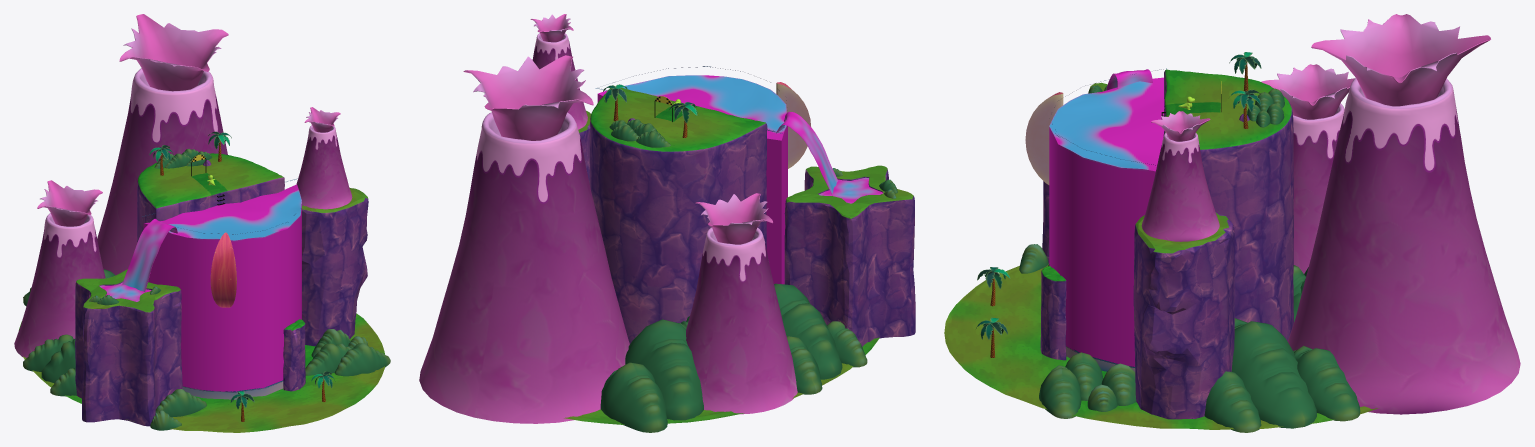
The model's file is Escenario 1.fbx.
3 renders of one model, left to right at view 1: azimuth 30°, elevation 25°; view 2: azimuth 150°, elevation 25°; view 3: azimuth 270°, elevation 25°, orthographic. The views are drawn at different scales.
Visible parts, largest first — view 1: Yogurt Acuario, Volcan, Montaña Estrella, Monataña, Arbusto, Pasto, Lava de yogurt, Montaña P, Yogurt Exterior, Manzana, Roca Exterior, Palmeras (+1 smaller); view 2: Volcan, Montaña P, Montaña Estrella, Arbusto, Lava de yogurt, Yogurt Acuario, Yogurt Exterior, Manzana, Pasto, Palmeras; view 3: Volcan, Yogurt Acuario, Montaña P, Arbusto, Monataña, Lava de yogurt, Pasto, Roca Exterior, Palmeras, Manzana, Montaña Estrella, Yogurt Exterior.
Part boxes in pixels (x1=…): Yogurt Acuario: x1=143, y1=184, x2=301, y2=391; Volcan: x1=14, y1=68, x2=352, y2=357; Montaña Estrella: x1=75, y1=269, x2=182, y2=426; Monataña: x1=302, y1=187, x2=368, y2=346; Arbusto: x1=23, y1=148, x2=390, y2=430; Pasto: x1=18, y1=313, x2=384, y2=432; Lava de yogurt: x1=37, y1=14, x2=340, y2=226; Montaña P: x1=137, y1=153, x2=284, y2=242; Yogurt Exterior: x1=100, y1=218, x2=177, y2=301; Manzana: x1=210, y1=232, x2=236, y2=307; Roca Exterior: x1=283, y1=319, x2=305, y2=391; Palmeras: x1=149, y1=131, x2=335, y2=421; Volcan: x1=419, y1=33, x2=797, y2=423; Montaña P: x1=589, y1=85, x2=767, y2=343; Montaña Estrella: x1=784, y1=165, x2=915, y2=346; Arbusto: x1=600, y1=119, x2=897, y2=432; Lava de yogurt: x1=463, y1=14, x2=772, y2=244; Yogurt Acuario: x1=597, y1=75, x2=787, y2=284; Yogurt Exterior: x1=776, y1=112, x2=882, y2=203; Manzana: x1=776, y1=82, x2=810, y2=168; Pasto: x1=564, y1=337, x2=879, y2=424; Palmeras: x1=603, y1=84, x2=698, y2=137; Volcan: x1=1141, y1=78, x2=1520, y2=414; Yogurt Acuario: x1=1049, y1=77, x2=1164, y2=366; Montaña P: x1=1163, y1=69, x2=1293, y2=340; Arbusto: x1=1019, y1=85, x2=1360, y2=432; Monataña: x1=1133, y1=212, x2=1234, y2=419; Lava de yogurt: x1=1151, y1=14, x2=1490, y2=141; Pasto: x1=944, y1=264, x2=1377, y2=429; Roca Exterior: x1=1040, y1=266, x2=1066, y2=360; Palmeras: x1=976, y1=52, x2=1261, y2=357; Manzana: x1=1025, y1=92, x2=1063, y2=184; Montaña Estrella: x1=1042, y1=82, x2=1107, y2=263; Yogurt Exterior: x1=1106, y1=69, x2=1152, y2=90.
Bounding box in the file's own units: 5864 × 4408 × 7050.
20 materials, 18 textured.
